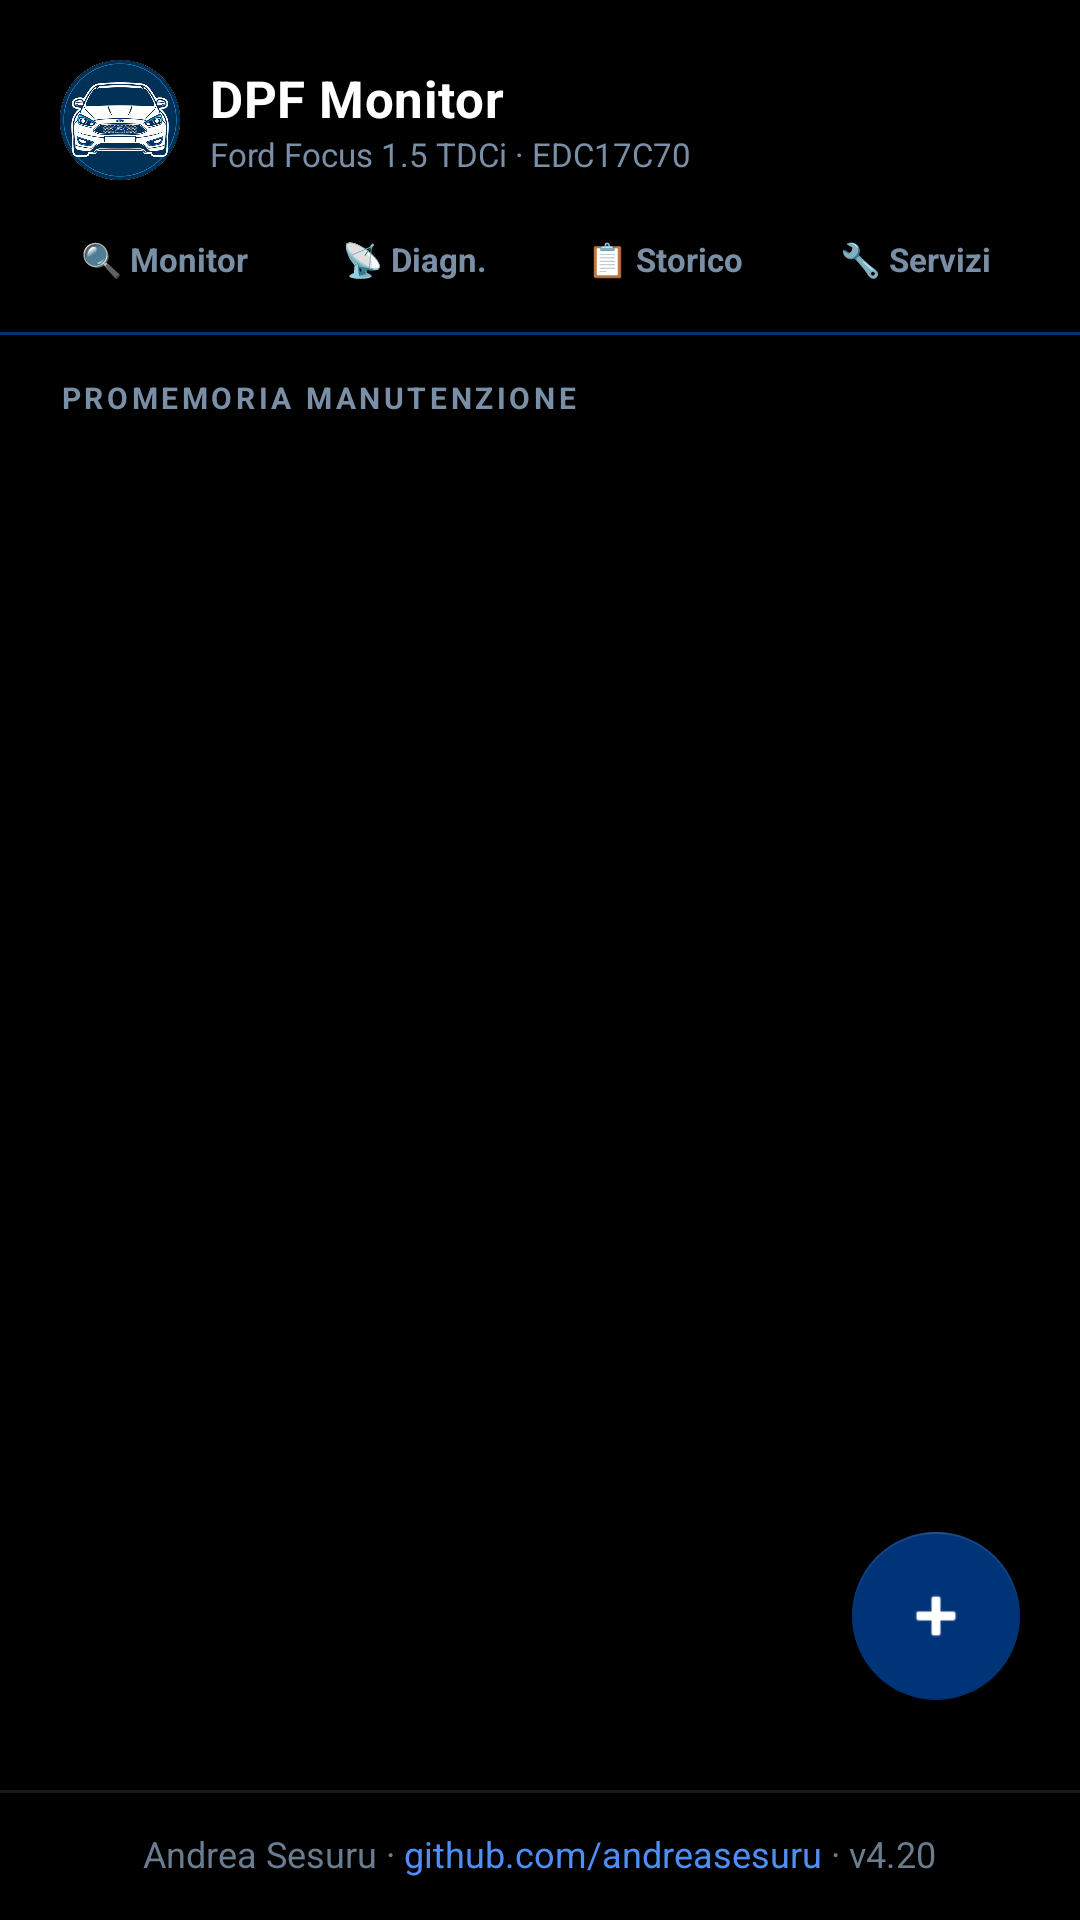

Icon click points for this 1080w x 1920h phone screenshot, format point (x, y):
Aggiungi promemoria: point (936, 1616)
